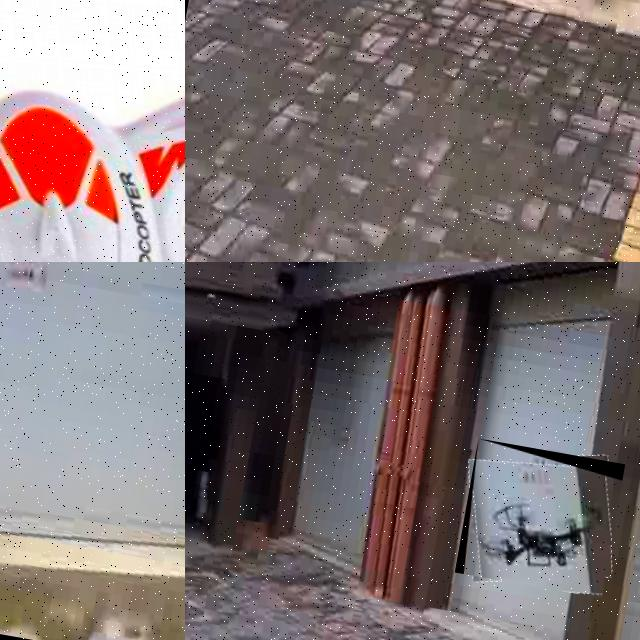drone: (0, 0, 185, 262), (454, 438, 625, 598)
